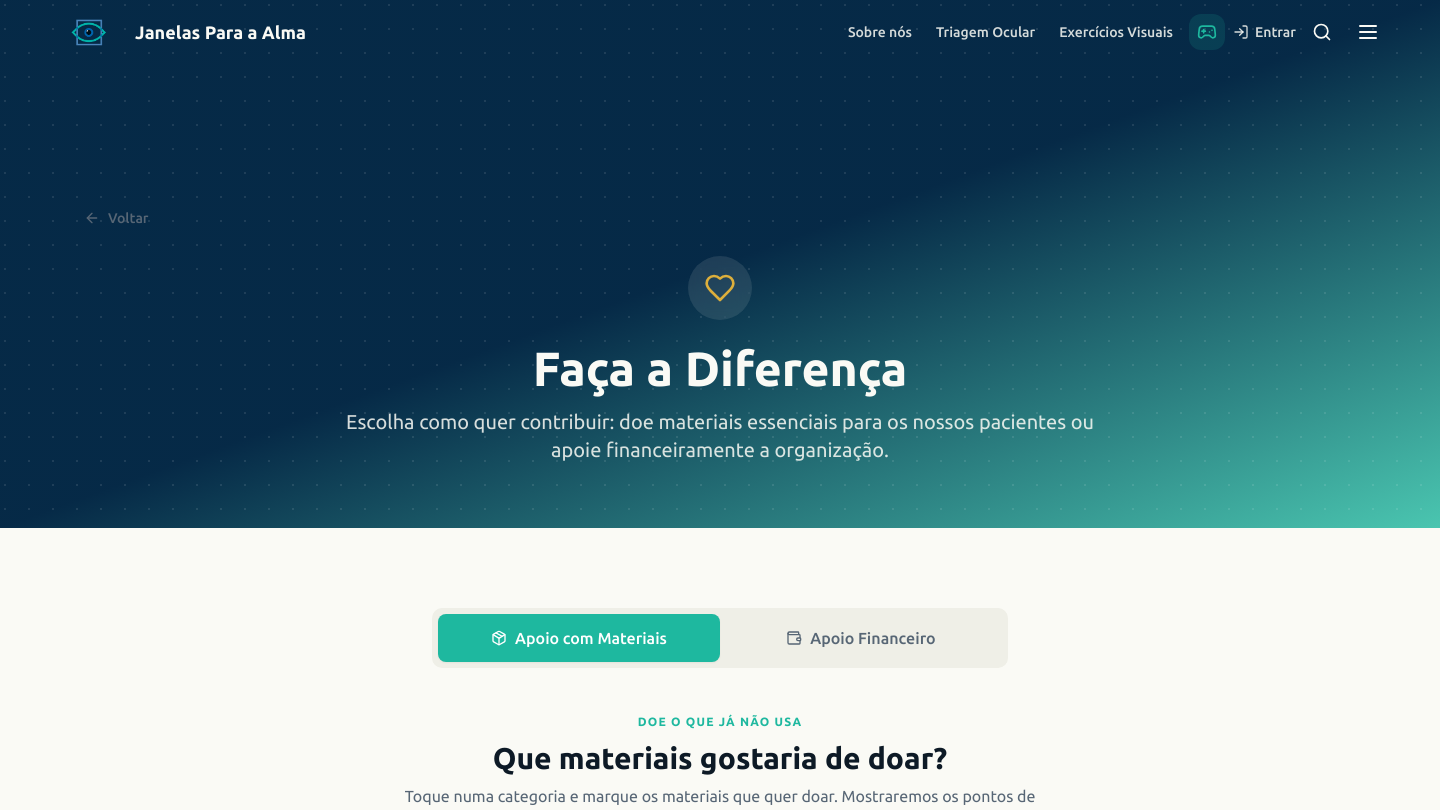
Apoiar — doação financeira (comprovativo via R2, CROSS-02) › não avança sem valor, nem com um valor abaixo do mínimo
This screenshot has width=1440, height=810.
Click the tab "Apoio Financeiro".
click(861, 638)  # box left=720, top=614, right=1002, bottom=662
(page scrolled)
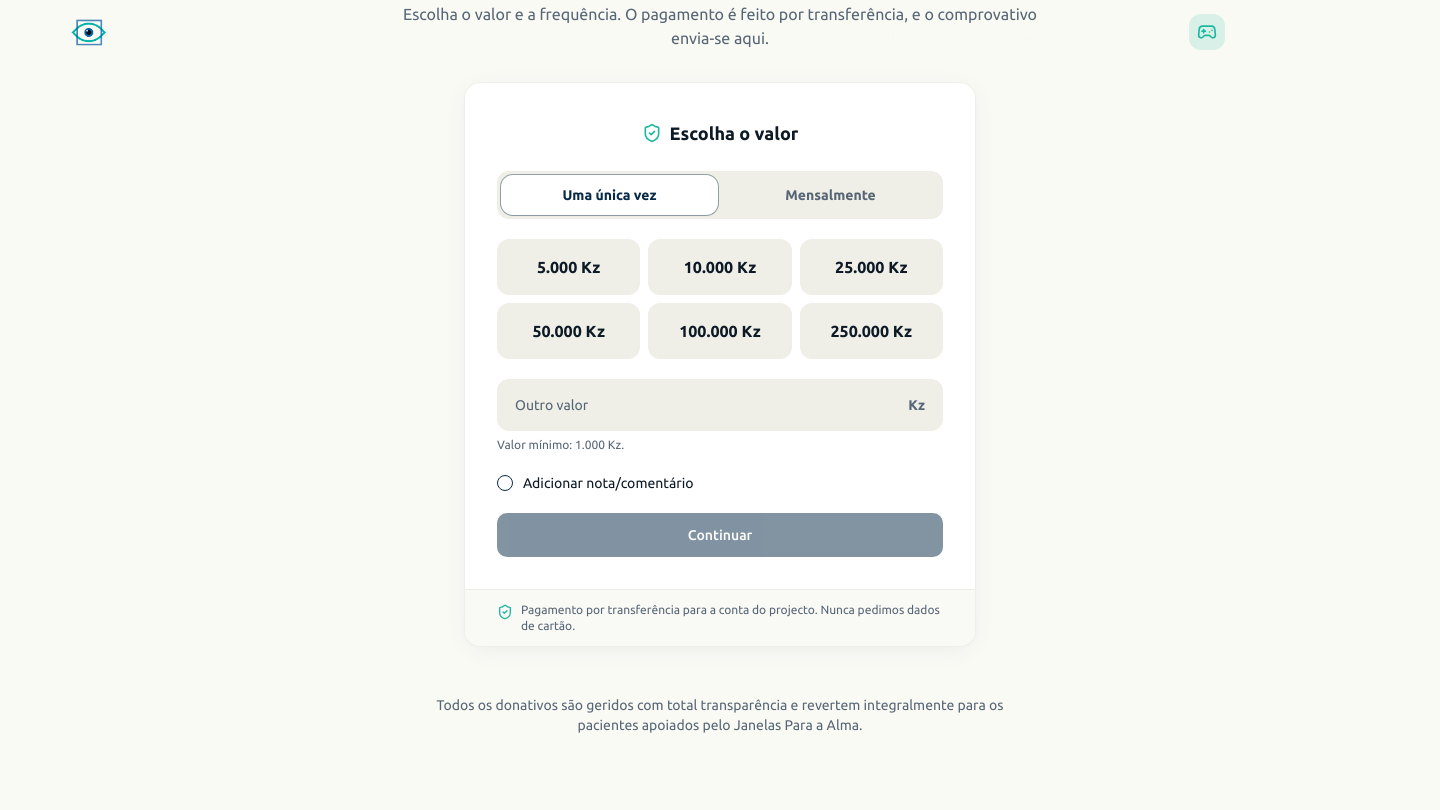
Expected: the button "Continuar" is disabled, left=497, top=513, right=943, bottom=557
Type "500" into the field labelled "Outro valor".
click(712, 405); type("500")  # box left=515, top=381, right=908, bottom=429
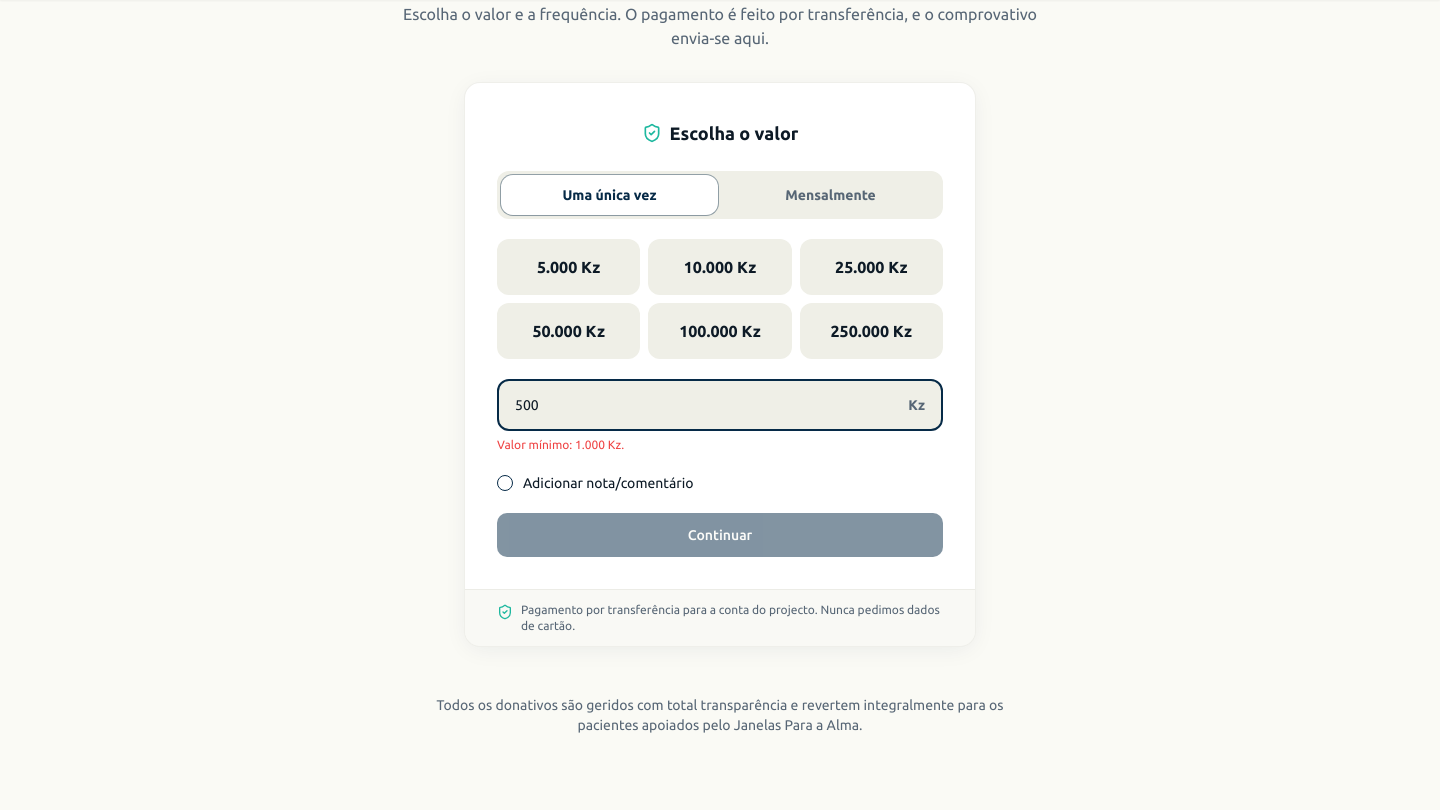
Expected: the button "Continuar" is disabled, left=497, top=513, right=943, bottom=557
Type "0" into the field named "Outro valor".
click(712, 405); type("0")  # box left=515, top=381, right=908, bottom=429
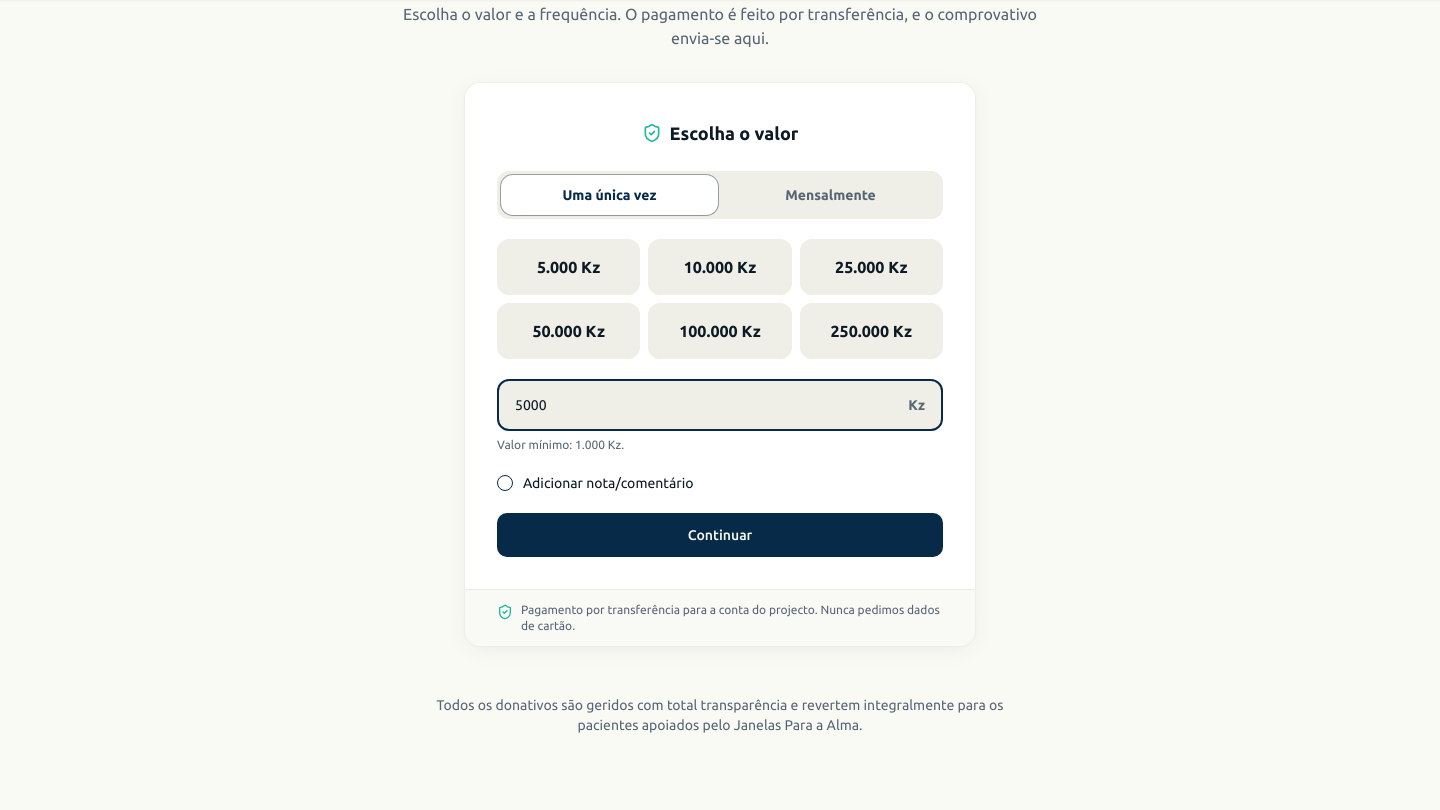
Expected: the button "Continuar" is enabled, left=497, top=513, right=943, bottom=557
